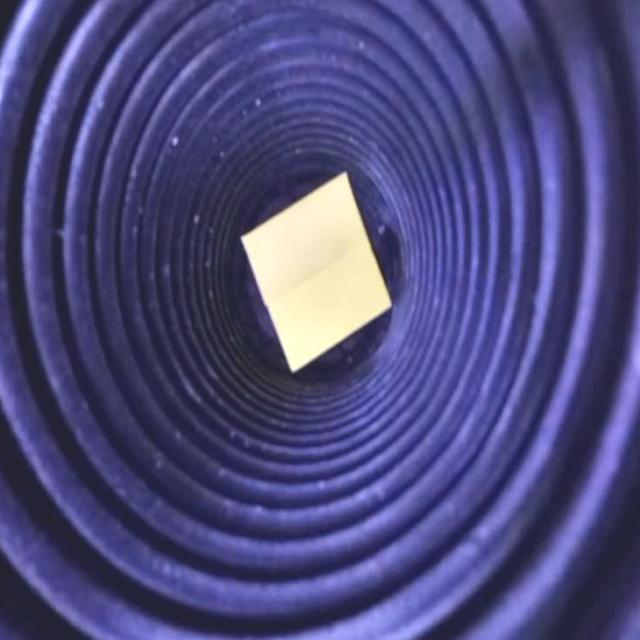obstacles: (238, 169, 390, 387)
